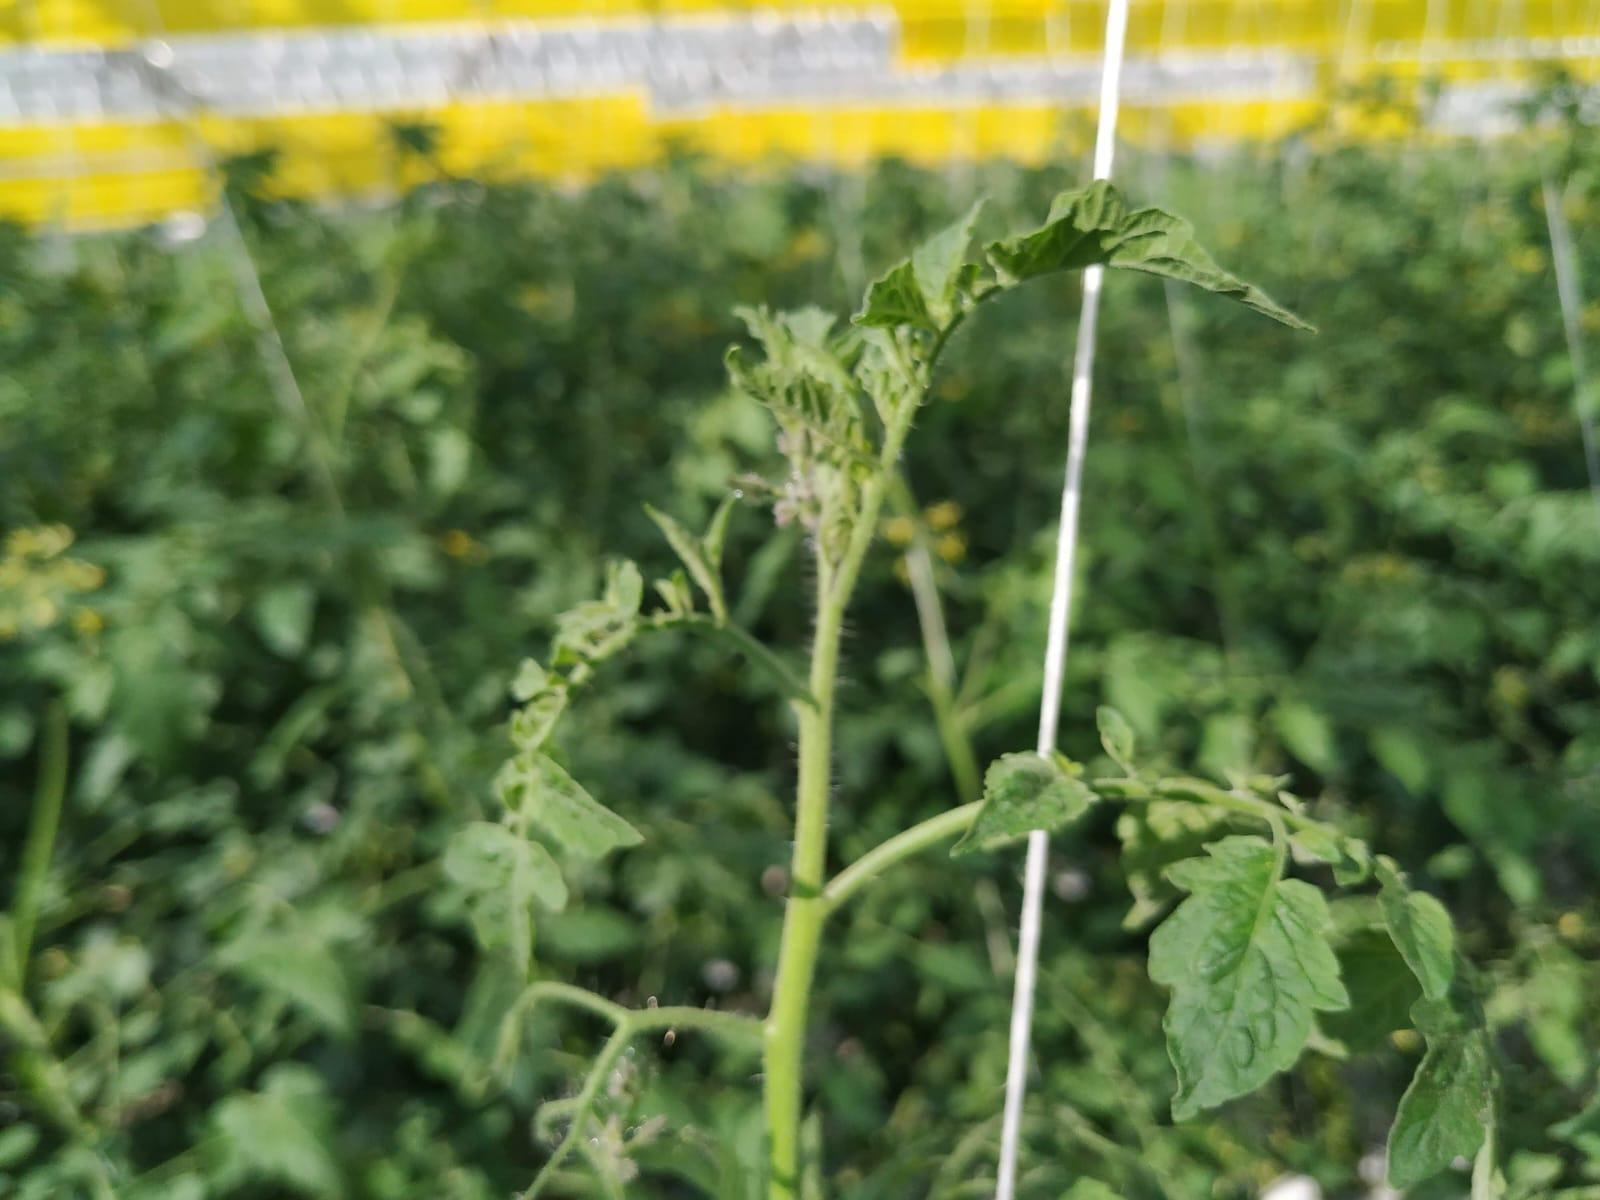Rugose leaf: (988, 182, 1303, 328)
